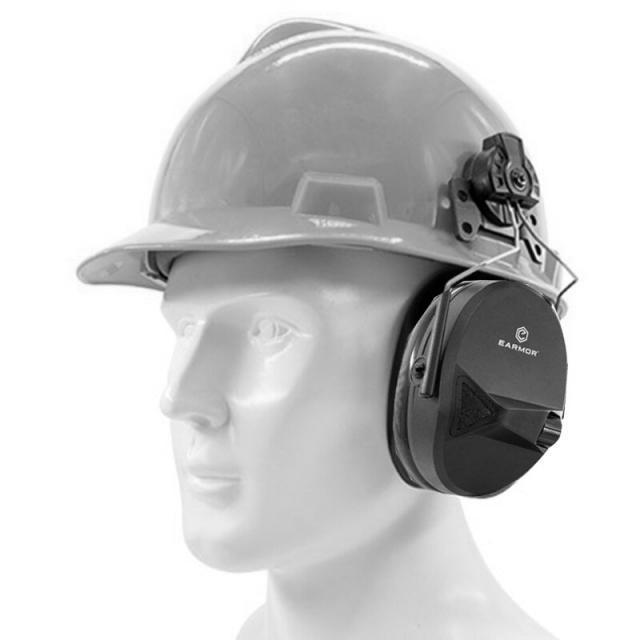safety_helmet: (76, 18, 575, 498)
